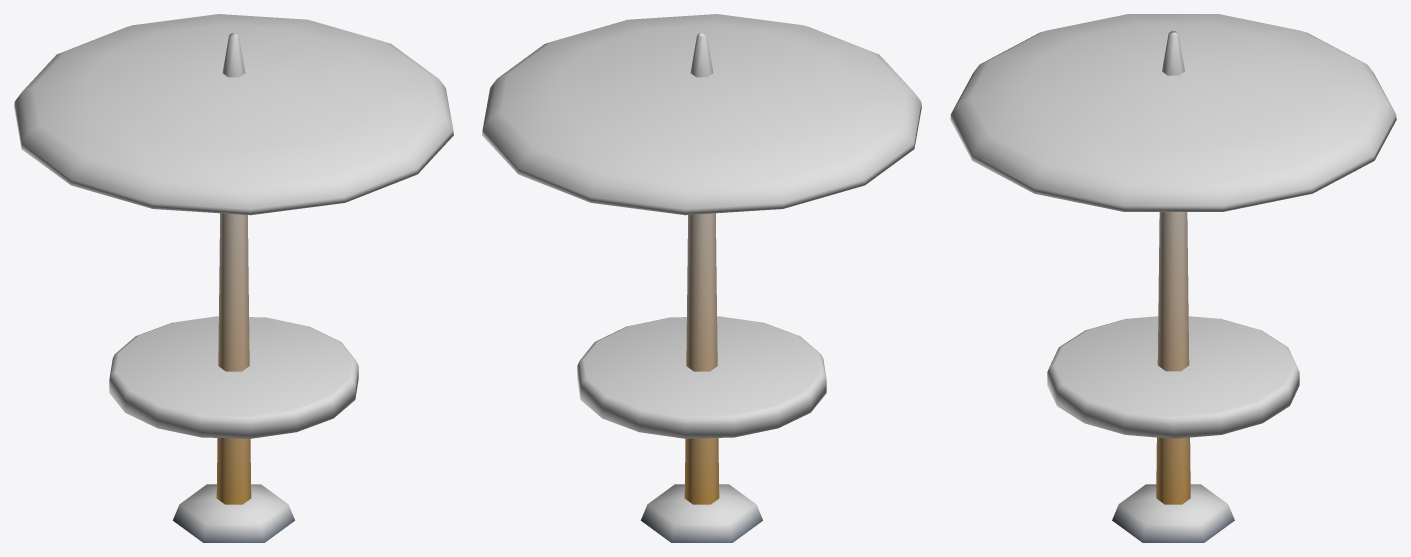
File: NF_Env_Table 02.fbx
The picture shows the model from 3 angles, left to right: view 1: azimuth 30°, elevation 25°; view 2: azimuth 150°, elevation 25°; view 3: azimuth 270°, elevation 25°; orthographic projection.
Visible parts, largest first — view 1: Table_02; view 2: Table_02; view 3: Table_02.
Boxes of the visible parts, left/top/right/bottom form: Table_02: left=14, top=14, right=453, bottom=542; Table_02: left=482, top=14, right=921, bottom=542; Table_02: left=950, top=14, right=1396, bottom=542.
Size of the model in its own units: 2.92 by 3.62 by 3.
